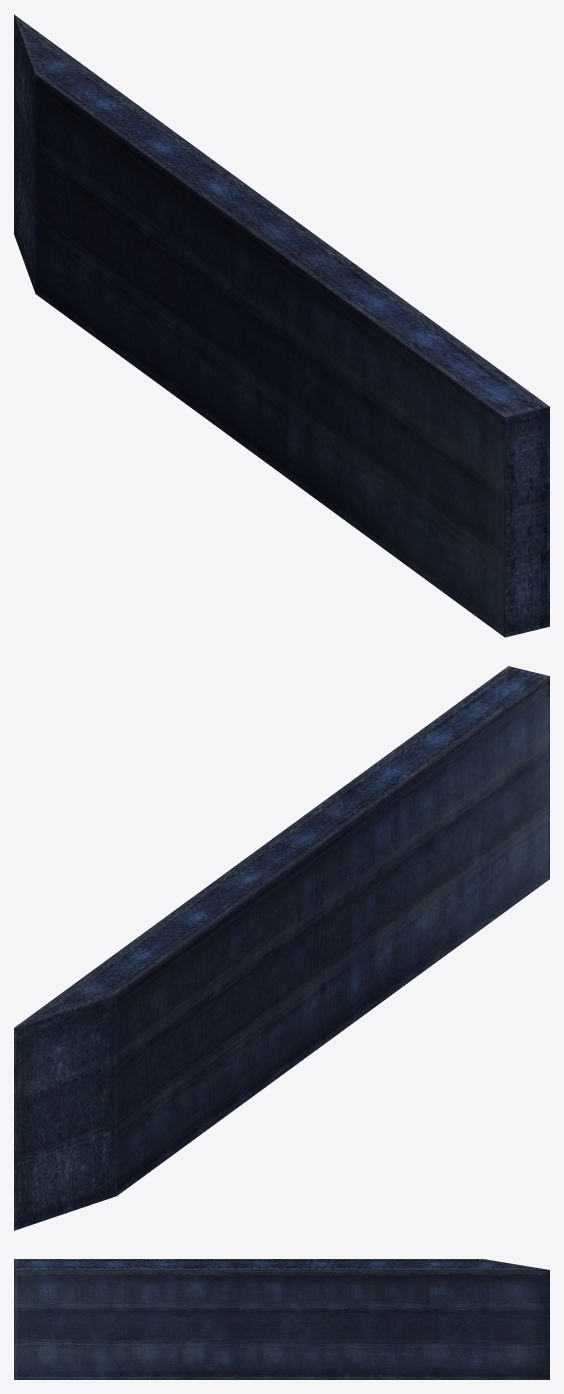
The model's file is raque_side_lvl_2.glb.
The picture shows the model from 3 angles, top to bottom: view 1: azimuth 30°, elevation 25°; view 2: azimuth 150°, elevation 25°; view 3: azimuth 270°, elevation 25°; orthographic projection. The views are drawn at different scales.
Visible parts, largest first — view 1: Mesh_0.002; view 2: Mesh_0.002; view 3: Mesh_0.002.
Boxes of the visible parts, x1,y1,x2,y2 form: Mesh_0.002: (14, 14, 549, 637); Mesh_0.002: (14, 666, 549, 1230); Mesh_0.002: (14, 1259, 549, 1379).
Size of the model in its own units: 0.00928 by 0.0433 by 0.1914.
Materials: 1 (1 with a texture image).
